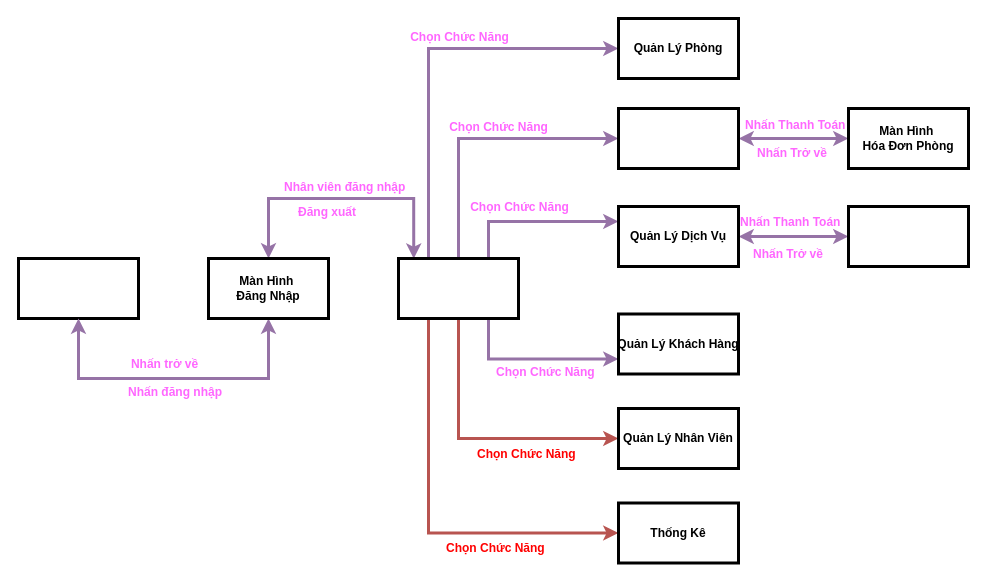
The diagram is 987 pixels wide and 582 high, and some of its shapes have lost their labels. The shapes that lost their labels are listed below. From the top down, each one's box as (x1, y1, x2, y2) in pixels, then its label:
(616, 106, 740, 170): Quản Lý Đặt Phòng
(846, 204, 970, 268): Màn Hình Hóa Đơn Dịch Vụ
(16, 256, 140, 320): Hệ Thống
(396, 256, 520, 320): Màn Hình Chính
